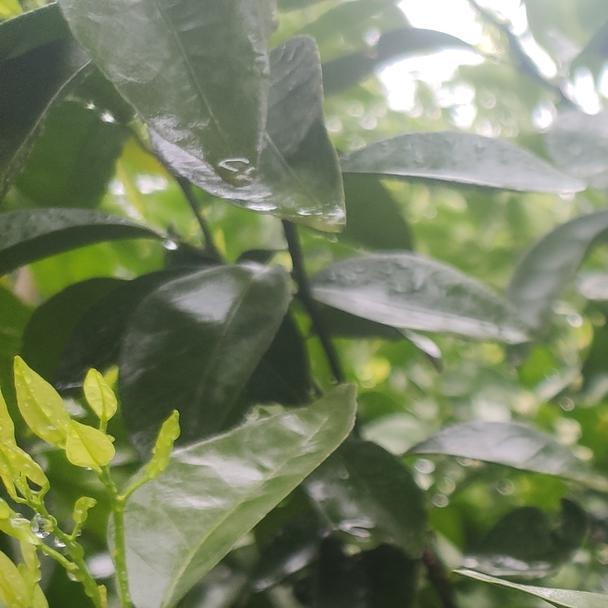shoot: (18, 340, 181, 511)
